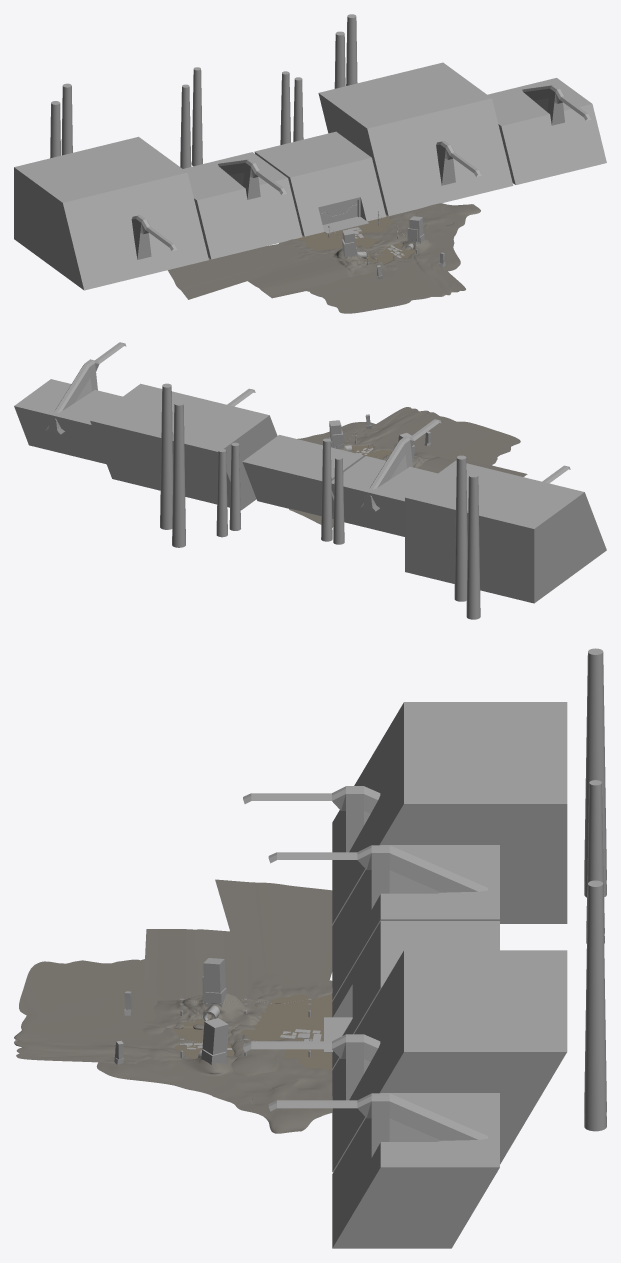
Rendered from Neon_Test_01.fbx.
The picture shows the model from 3 angles, top to bottom: view 1: azimuth 30°, elevation 25°; view 2: azimuth 150°, elevation 25°; view 3: azimuth 270°, elevation 25°; orthographic projection. The views are drawn at different scales.
Parts seen in each view (by area): view 1: pCube85, pCube139, pCube84, pCube138, pCube83, pPlane12, pPlane13, pPlane3, pPlane14, pPlane15, pCube141, pCube81 (+12 smaller); view 2: pCube85, pCube139, pCube83, pPlane12, pCube138, pCube84, pCylinder34, pCylinder30, pCylinder35, pCylinder31, pCube81, pCube141 (+6 smaller); view 3: pCube85, pCube139, pCube138, pPlane12, pPlane13, pCube84, pPlane14, pPlane3, pCube83, pCube141, pCylinder31, pCube81 (+8 smaller).
Boxes of the visible parts, x1=… form: pCube85: x1=14, y1=136, x2=208, y2=290; pCube139: x1=318, y1=62, x2=513, y2=215; pCube84: x1=183, y1=152, x2=302, y2=259; pCube138: x1=487, y1=78, x2=606, y2=184; pCube83: x1=254, y1=131, x2=386, y2=236; pPlane12: x1=307, y1=253, x2=465, y2=313; pPlane13: x1=168, y1=214, x2=407, y2=299; pPlane3: x1=248, y1=254, x2=387, y2=298; pPlane14: x1=399, y1=203, x2=480, y2=271; pPlane15: x1=294, y1=215, x2=414, y2=264; pCube141: x1=522, y1=85, x2=591, y2=125; pCube81: x1=218, y1=159, x2=287, y2=199; pCube85: x1=405, y1=460, x2=606, y2=603; pCube139: x1=90, y1=383, x2=277, y2=510; pCube83: x1=242, y1=435, x2=364, y2=518; pPlane12: x1=353, y1=407, x2=520, y2=465; pCube138: x1=14, y1=379, x2=122, y2=464; pCube84: x1=331, y1=456, x2=437, y2=536; pCylinder34: x1=466, y1=473, x2=480, y2=619; pCylinder30: x1=172, y1=401, x2=185, y2=547; pCylinder35: x1=454, y1=455, x2=467, y2=601; pCylinder31: x1=160, y1=383, x2=173, y2=529; pCube81: x1=360, y1=419, x2=441, y2=511; pCube141: x1=45, y1=342, x2=126, y2=434; pCube85: x1=332, y1=702, x2=567, y2=923; pCube139: x1=332, y1=950, x2=567, y2=1172; pCube138: x1=332, y1=1093, x2=499, y2=1248; pPlane12: x1=14, y1=959, x2=192, y2=1063; pPlane13: x1=215, y1=879, x2=333, y2=1078; pCube84: x1=332, y1=845, x2=499, y2=1000; pPlane14: x1=96, y1=1055, x2=332, y2=1133; pPlane3: x1=144, y1=929, x2=251, y2=1027; pCube83: x1=332, y1=921, x2=499, y2=1068; pCube141: x1=268, y1=1093, x2=487, y2=1157; pCylinder31: x1=584, y1=880, x2=606, y2=1116; pCube81: x1=268, y1=845, x2=487, y2=909.
Bounding box in the file's own units: 384 × 106 × 226.
